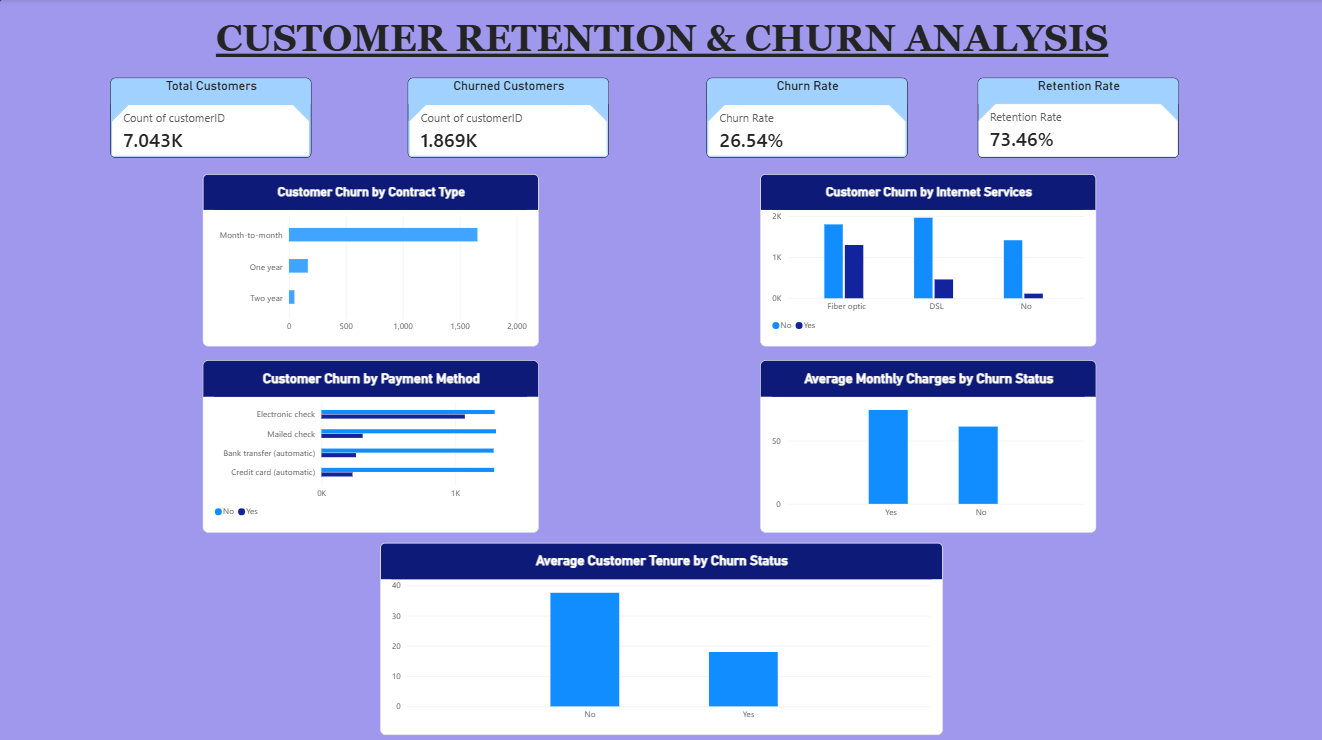

The page's visual inventory and layout, read from the dashboard file:
{"tool":"powerbi","page":{"name":"Page 1","canvas":[1920,1080],"ordinal":0},"visuals":[{"type":"cardVisual","title":"Total Customers","fields":{"Data":["CountNonNull(Telco_Customer_Churn_Cleaned.customerID)"]},"box":[161.1,114,291.4,115.8],"z":0},{"type":"cardVisual","title":"Churned Customers","fields":{"Data":["Count(Telco_Customer_Churn_Cleaned.customerID)"]},"box":[591.8,114,291.4,115.8],"z":1},{"type":"cardVisual","title":"Churn Rate","fields":{"Data":["Telco_Customer_Churn_Cleaned.Churn Rate"]},"box":[1024.3,114,291.4,115.8],"z":2},{"type":"cardVisual","title":"Retention Rate","fields":{"Data":["Telco_Customer_Churn_Cleaned.Retention Rate"]},"box":[1417,114,291.4,115.8],"z":3},{"type":"textbox","box":[0,27.1,1920.1,112.2],"z":4},{"type":"clusteredBarChart","title":"Customer Churn by Contract Type","fields":{"Category":["Telco_Customer_Churn_Cleaned.Contract"],"Y":["Count(Telco_Customer_Churn_Cleaned.customerID)"]},"box":[295,253.4,486.8,249.7],"z":5},{"type":"clusteredColumnChart","title":"Customer Churn by Internet Services","fields":{"Category":["Telco_Customer_Churn_Cleaned.InternetService"],"Series":["Telco_Customer_Churn_Cleaned.Churn"],"Y":["Count(Telco_Customer_Churn_Cleaned.customerID)"]},"box":[1102.1,253.4,486.8,249.7],"z":6},{"type":"clusteredBarChart","title":"Customer Churn by Payment Method ","fields":{"Category":["Telco_Customer_Churn_Cleaned.PaymentMethod"],"Series":["Telco_Customer_Churn_Cleaned.Churn"],"Y":["Count(Telco_Customer_Churn_Cleaned.customerID)"]},"box":[295,523,486.8,249.7],"z":7},{"type":"clusteredColumnChart","title":"Average Monthly Charges by Churn Status","fields":{"Category":["Telco_Customer_Churn_Cleaned.Churn"],"Y":["Avg(Telco_Customer_Churn_Cleaned.MonthlyCharges)"]},"box":[1102.1,523,486.8,249.7],"z":8},{"type":"clusteredColumnChart","title":"Average Customer Tenure by Churn Status","fields":{"Category":["Telco_Customer_Churn_Cleaned.Churn"],"Y":["Avg(Telco_Customer_Churn_Cleaned.tenure)"]},"box":[551.9,787.2,814.3,278.7],"z":9}]}

Visuals, with their boxes in screenshot pixels (x1, y1, x2, y2), scaled from the page's 1920x1080 canvas onto the 1322x740 screenshot:
"Total Customers" cardVisual: 111,78,312,157
"Churned Customers" cardVisual: 407,78,608,157
"Churn Rate" cardVisual: 705,78,906,157
"Retention Rate" cardVisual: 976,78,1176,157
textbox: 0,19,1321,95
"Customer Churn by Contract Type" clusteredBarChart: 203,174,538,345
"Customer Churn by Internet Services" clusteredColumnChart: 759,174,1094,345
"Customer Churn by Payment Method " clusteredBarChart: 203,358,538,529
"Average Monthly Charges by Churn Status" clusteredColumnChart: 759,358,1094,529
"Average Customer Tenure by Churn Status" clusteredColumnChart: 380,539,941,730
